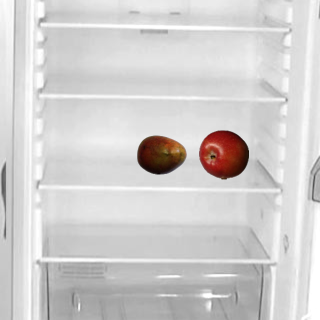Apple Braeburn: (198, 129, 248, 179)
Mango Red: (136, 129, 186, 179)
